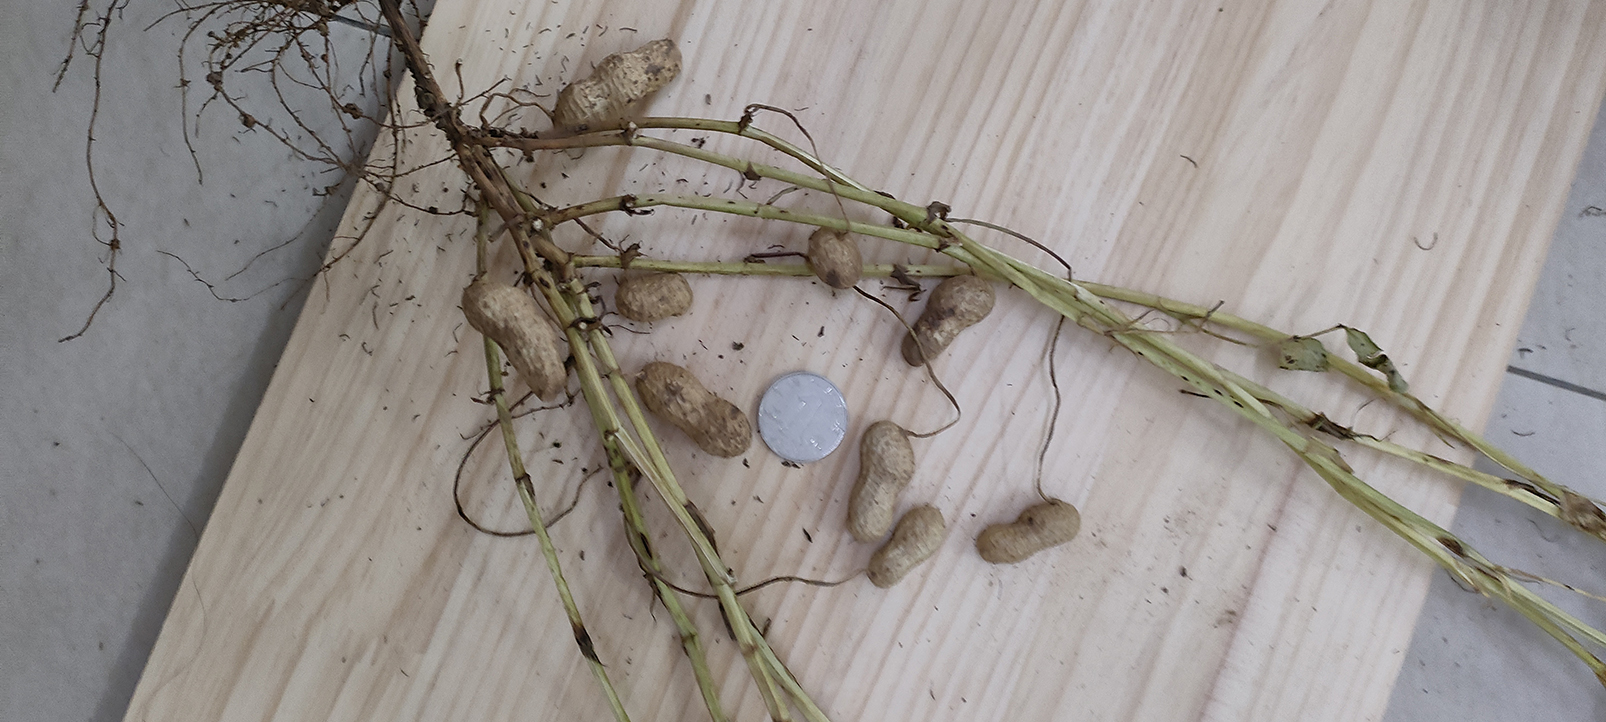h: (462, 277, 568, 401), (553, 38, 682, 127), (639, 362, 753, 456), (848, 422, 915, 541), (867, 504, 946, 589), (975, 501, 1081, 564), (614, 271, 693, 321), (808, 226, 863, 290)
l: (900, 271, 997, 366)
